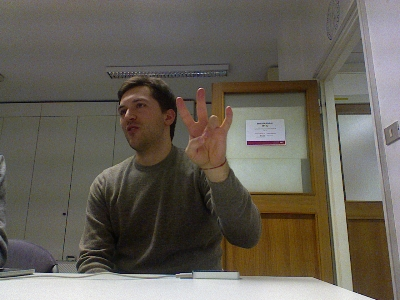观音: (175, 86, 233, 167)
